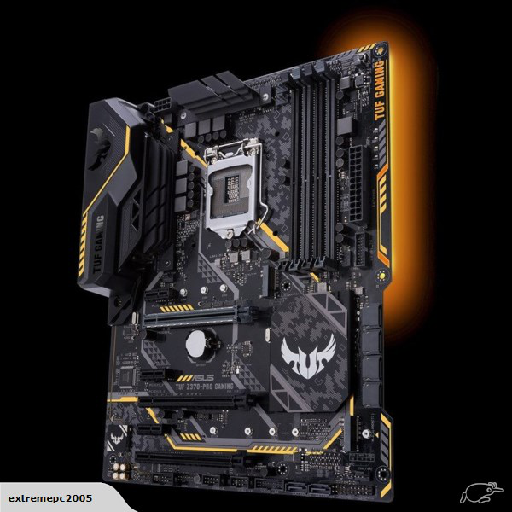CPU: (202, 154, 257, 238)
GPU: (143, 298, 252, 327), (134, 390, 253, 413)
MOTHERBOARD: (81, 44, 417, 504)
RAM: (279, 67, 339, 275)
SSD: (260, 263, 276, 298)
